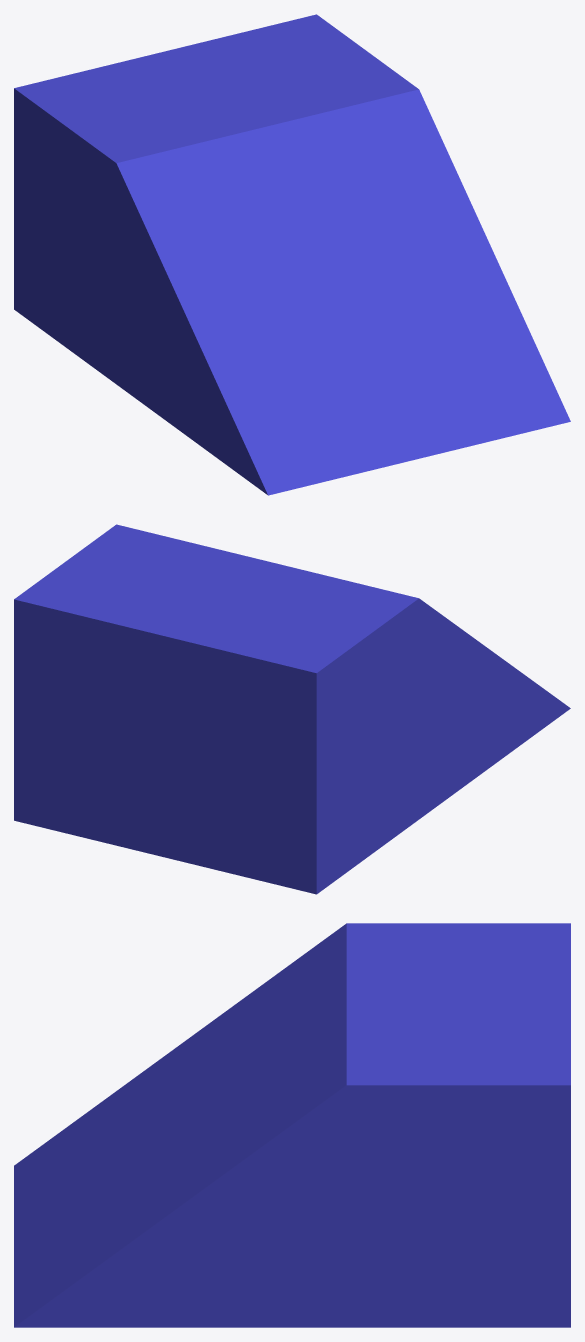
The model's file is Puzzle1Ramp.fbx.
3 renders of one model, top to bottom at view 1: azimuth 30°, elevation 25°; view 2: azimuth 150°, elevation 25°; view 3: azimuth 270°, elevation 25°, orthographic. The views are drawn at different scales.
Parts seen in each view (by area): view 1: Cube.002; view 2: Cube.002; view 3: Cube.002.
Boxes of the visible parts, box(x1,y1,x2,y2) form: Cube.002: box(14, 14, 570, 495); Cube.002: box(14, 524, 570, 894); Cube.002: box(14, 923, 570, 1327).
Size of the model in its own units: 341 by 238 by 496.
